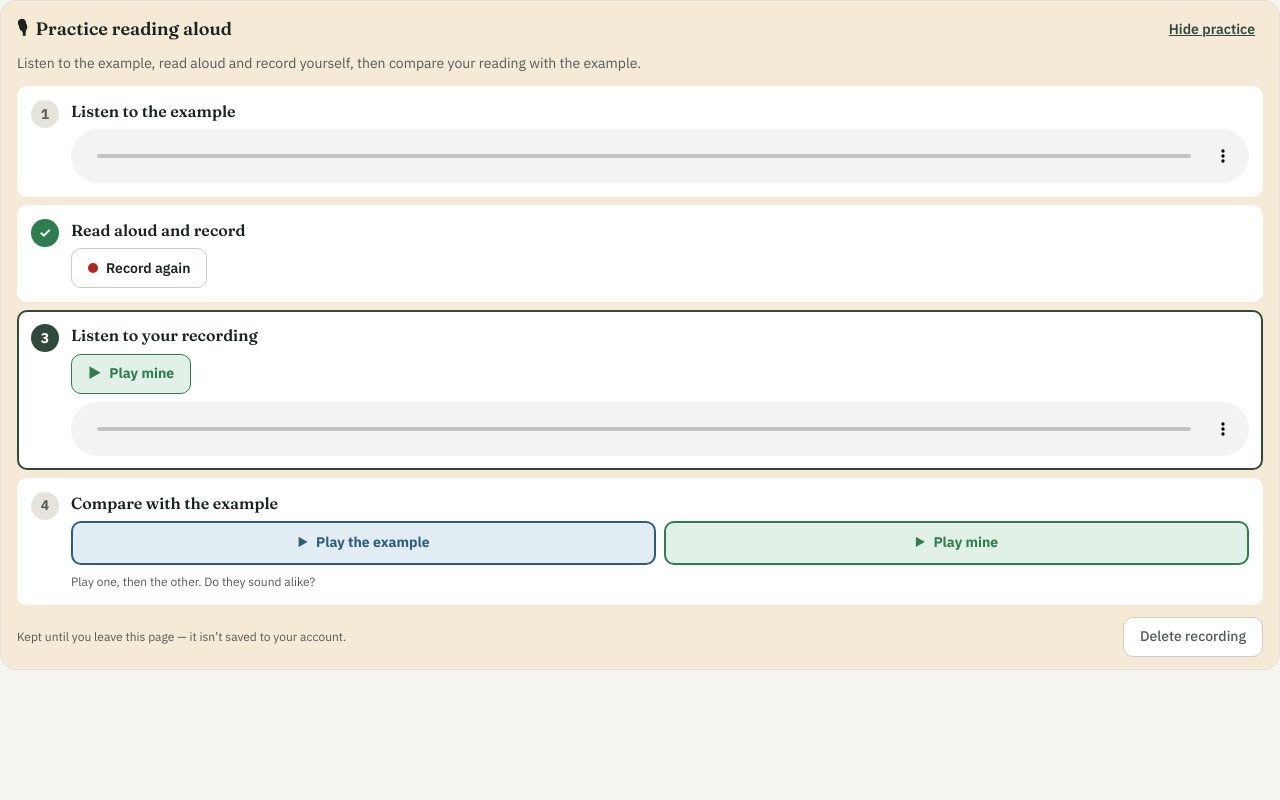
it: RecordingBar: with an example reading › compare: each button plays its clip from the start, one at a time, and pauses it when pressed again
What coordinates should you click on to do the following:
click the button with test id "compare-example"
I would click on:
 (364, 543)
Its box is [71,521,656,565].
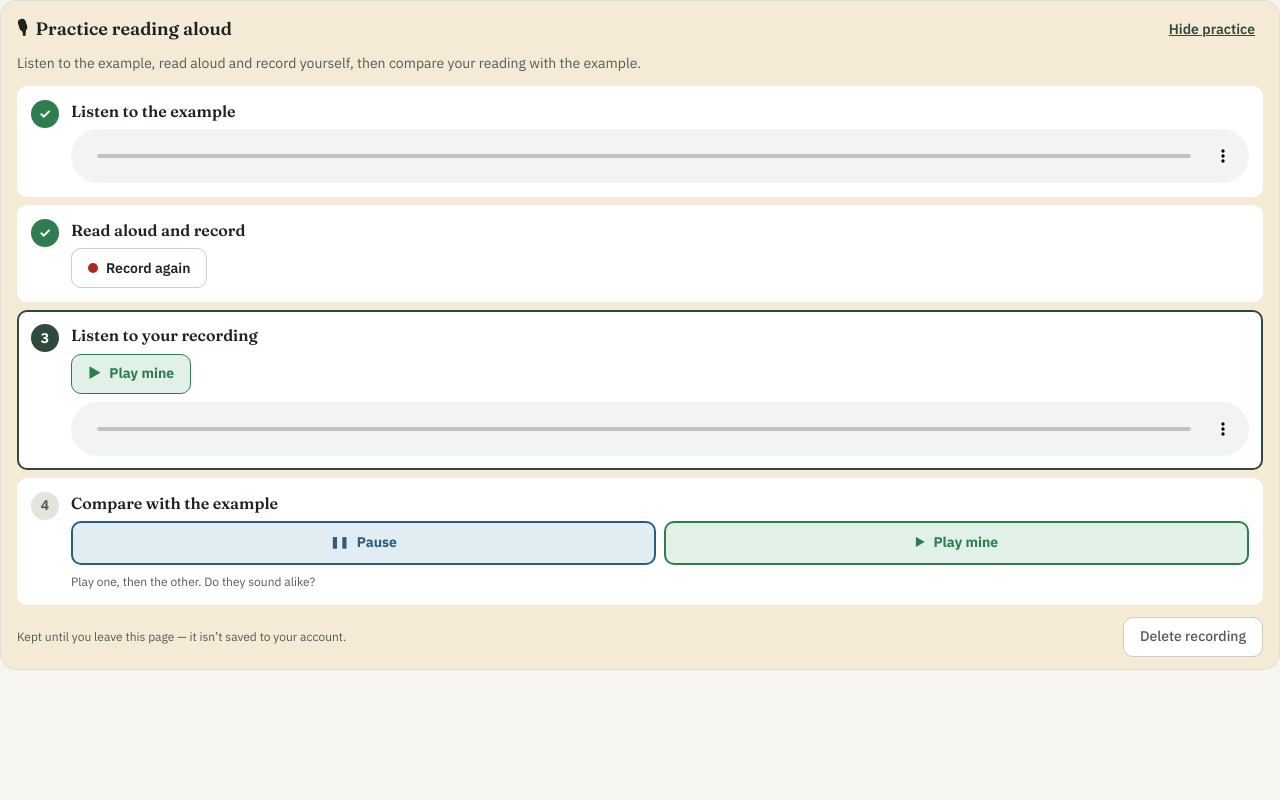
Expected: the text "Play mine" below "Listen to your recording" is shown, [109,364,174,382]
What coordinates should you click on to do the following:
click the button with test id "compare-mine"
I would click on:
 (956, 543)
Its box is [664,521,1249,565].
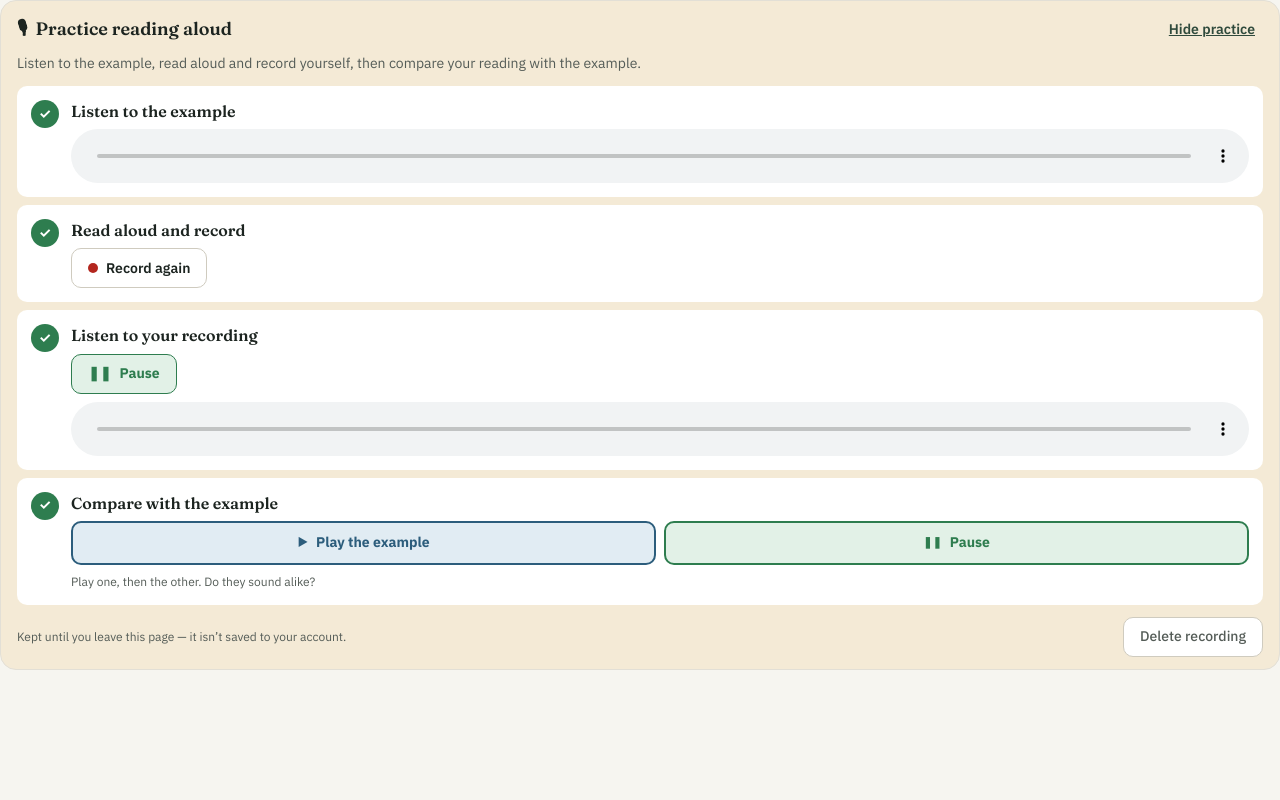
What coordinates should you click on to do the following:
click the button with test id "compare-mine"
I would click on:
 (956, 543)
Its box is [664,521,1249,565].
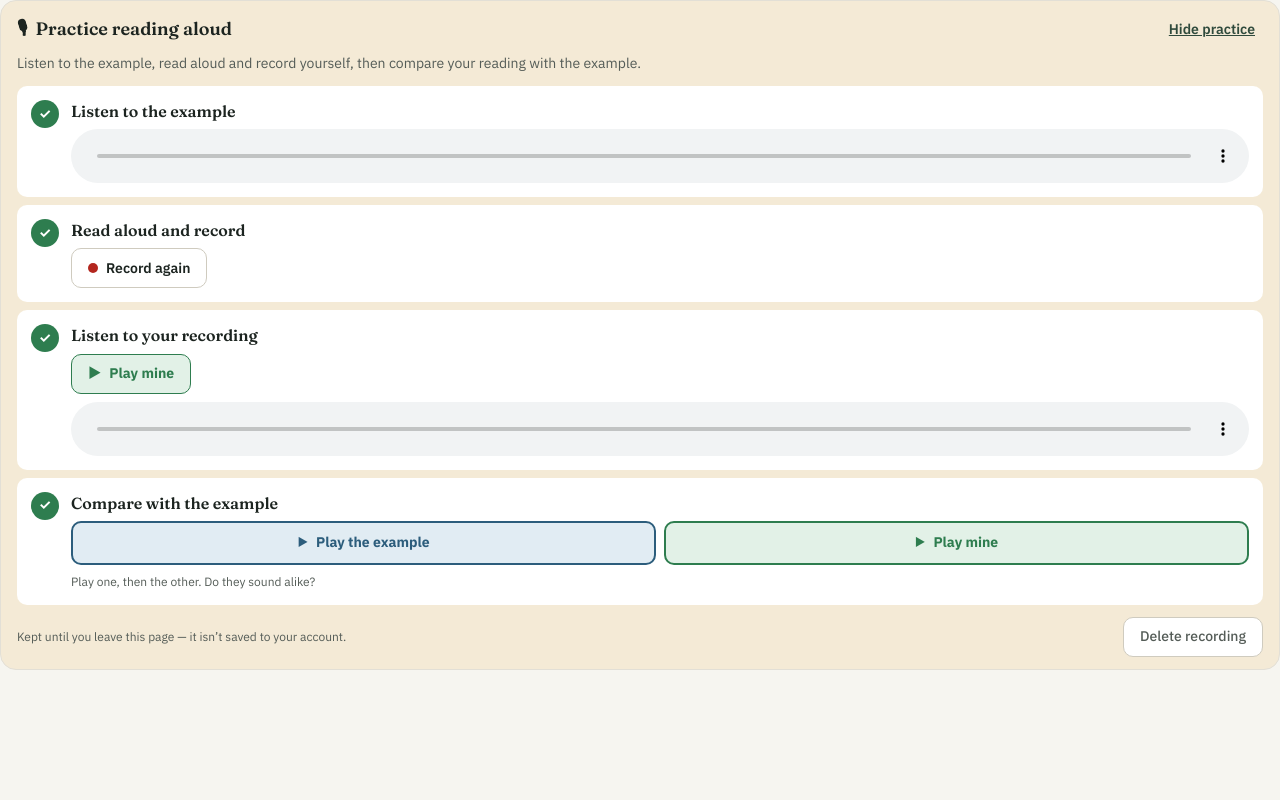
Expected: the text "Play mine" below "Listen to your recording" is shown, [109,364,174,382]
